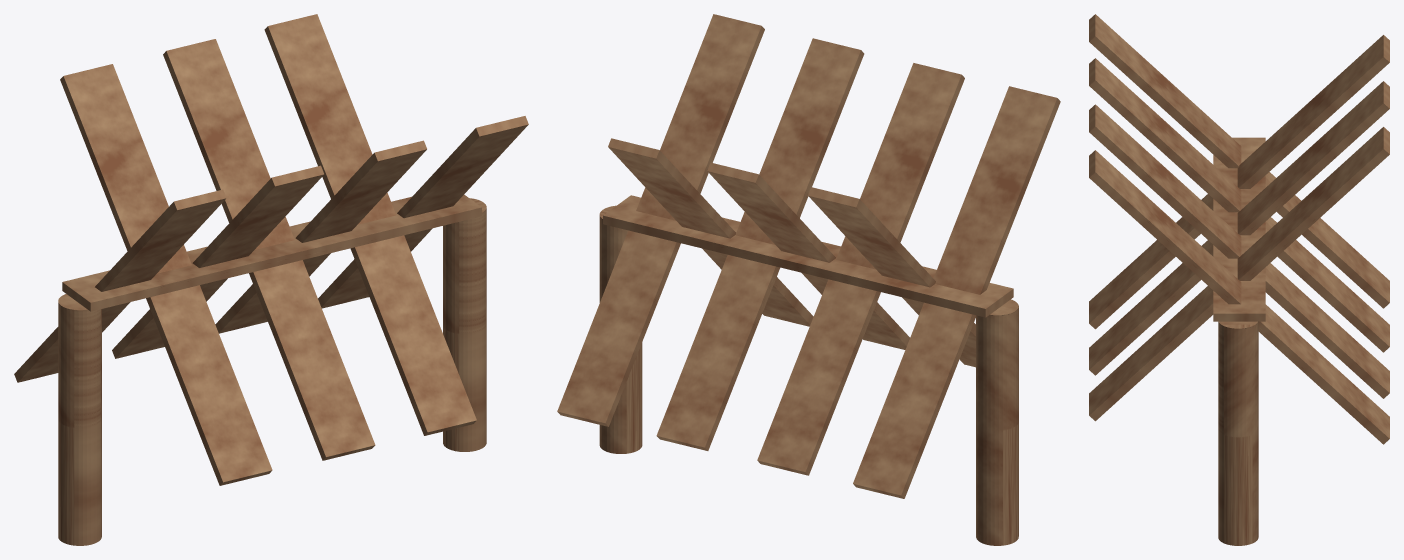
File: fodderRack.fbx
The picture shows the model from 3 angles, left to right: view 1: azimuth 30°, elevation 25°; view 2: azimuth 150°, elevation 25°; view 3: azimuth 270°, elevation 25°; orthographic projection. The views are drawn at different scales.
Parts seen in each view (by area): view 1: Bake; view 2: Bake; view 3: Bake.
Boxes of the visible parts, x1,y1,x2,y2 form: Bake: (14, 14, 528, 545); Bake: (557, 14, 1060, 545); Bake: (1089, 14, 1389, 545).
Bounding box in the file's own units: 268 × 235 × 179.
